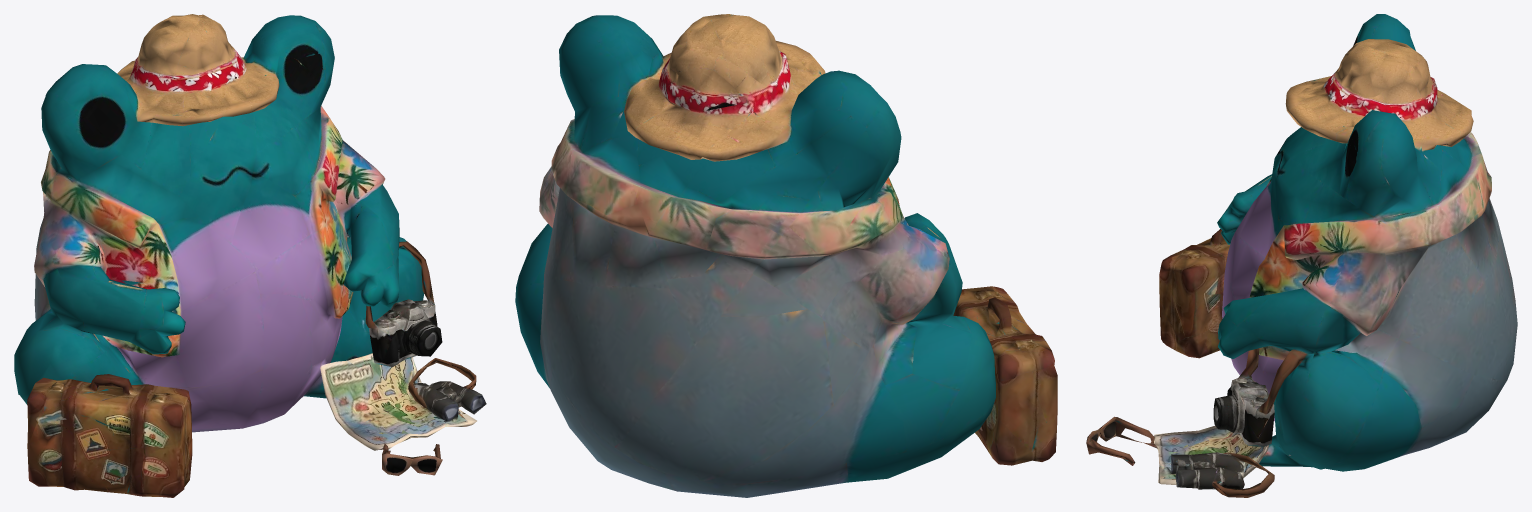
File: touriste.glb
3 renders of one model, left to right at view 1: azimuth 30°, elevation 25°; view 2: azimuth 150°, elevation 25°; view 3: azimuth 270°, elevation 25°, orthographic. The views are drawn at different scales.
Visible parts, largest first — view 1: mesh_node; view 2: mesh_node; view 3: mesh_node.
Part boxes in pixels (x1,y1,x2,y2): mesh_node: (14, 14, 486, 497); mesh_node: (515, 14, 1057, 497); mesh_node: (1086, 14, 1517, 497).
Size of the model in its own units: 1.9 by 1.54 by 1.66.
1 material, 1 textured.
